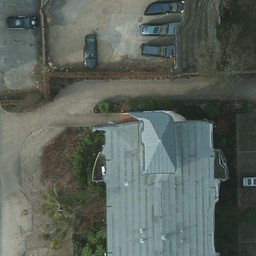car: (141, 43, 174, 59), (139, 21, 175, 34), (6, 15, 37, 28)
pickup: (82, 33, 97, 67)
